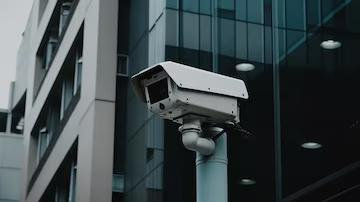------------------------------: (123, 56, 276, 139)
